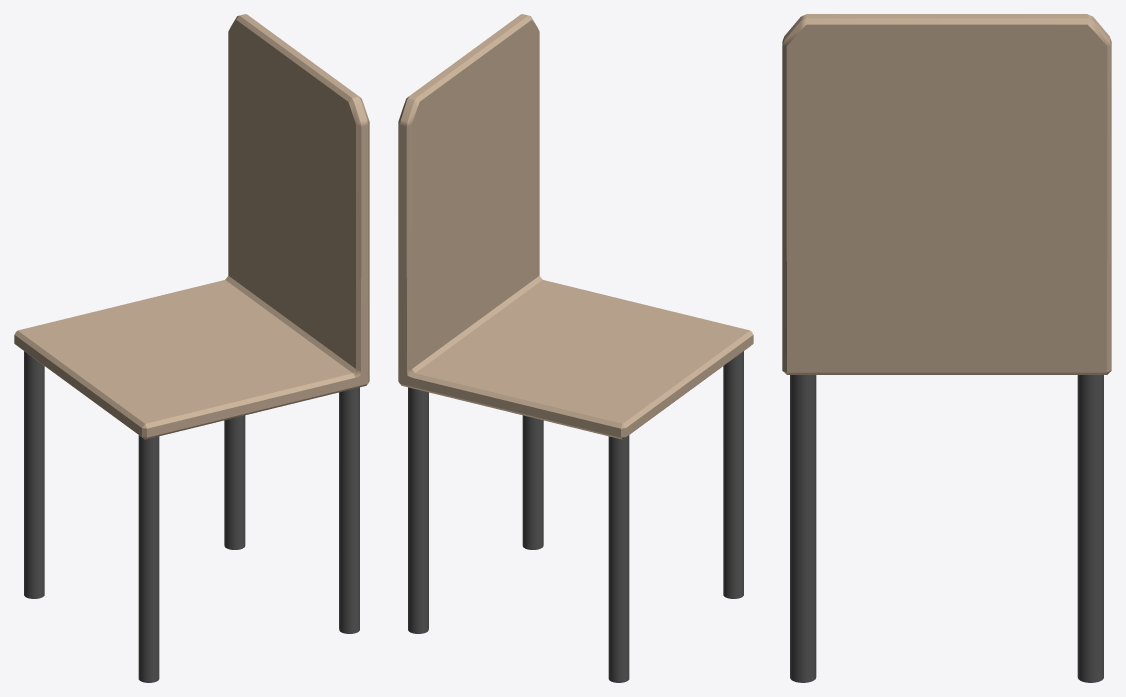
The model's file is chair.fbx.
3 views of the same model, side by side, from view 1: azimuth 30°, elevation 25°; view 2: azimuth 150°, elevation 25°; view 3: azimuth 270°, elevation 25° (orthographic). The views are drawn at different scales.
Visible parts, largest first — view 1: chair; view 2: chair; view 3: chair.
Boxes of the visible parts, x1=… form: chair: x1=14, y1=14, x2=369, y2=682; chair: x1=398, y1=14, x2=753, y2=682; chair: x1=782, y1=14, x2=1111, y2=682.
Size of the model in its own units: 75 by 167 by 75.
